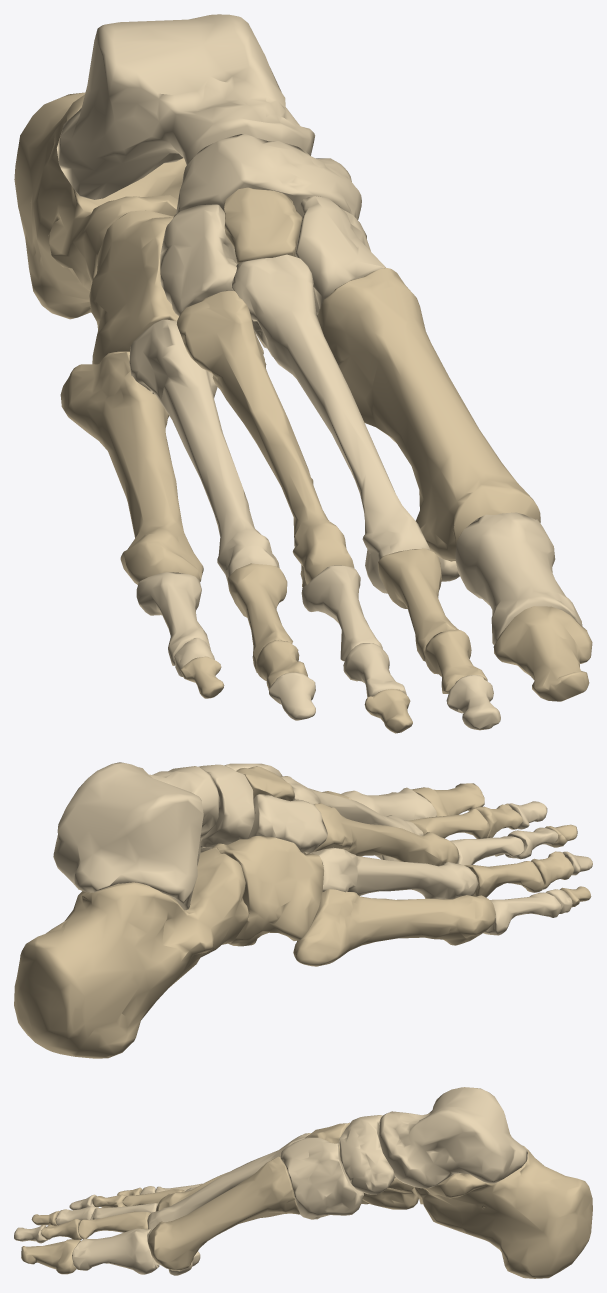
File: r-foot.glb
The picture shows the model from 3 angles, top to bottom: view 1: azimuth 30°, elevation 25°; view 2: azimuth 150°, elevation 25°; view 3: azimuth 270°, elevation 25°; orthographic projection. The views are drawn at different scales.
Visible parts, largest first — view 1: right-talus, right-first-metatarsal-bone, right-second-metatarsal-bone, right-calcaneus, right-fifth-metatarsal-bone, right-third-metatarsal-bone, right-fourth-metatarsal-bone, right-navicular, right-big-toe-proximal-phalanx, right-cuboid, right-big-toe-distal-phalanx, right-lateral-cuneiform (+13 smaller); view 2: right-calcaneus, right-talus, right-fifth-metatarsal-bone, right-cuboid, right-fourth-metatarsal-bone, right-third-metatarsal-bone, right-lateral-cuneiform, right-navicular, right-second-metatarsal-bone, right-big-toe-proximal-phalanx, right-fourth-toe-proximal-phalanx, right-little-toe-proximal-phalanx (+9 smaller); view 3: right-calcaneus, right-talus, right-first-metatarsal-bone, right-medial-cuneiform, right-navicular, right-big-toe-proximal-phalanx, right-second-metatarsal-bone, right-big-toe-distal-phalanx, right-second-toe-proximal-phalanx, right-cuboid, right-second-toe-middle-phalanx, right-third-toe-proximal-phalanx (+7 smaller).
Boxes of the visible parts, <box> form: right-talus: <box>57,14,315,199</box>; right-first-metatarsal-bone: <box>317,267,540,561</box>; right-second-metatarsal-bone: <box>231,254,429,593</box>; right-calcaneus: <box>14,92,186,319</box>; right-fifth-metatarsal-bone: <box>60,351,203,584</box>; right-third-metatarsal-bone: <box>176,290,354,587</box>; right-fourth-metatarsal-bone: <box>129,319,279,580</box>; right-navicular: <box>176,134,361,219</box>; right-big-toe-proximal-phalanx: <box>455,512,582,644</box>; right-cuboid: <box>89,210,178,364</box>; right-big-toe-distal-phalanx: <box>493,606,592,701</box>; right-lateral-cuneiform: <box>160,204,255,334</box>; right-calcaneus: <box>14,847,249,1058</box>; right-talus: <box>53,762,219,910</box>; right-fifth-metatarsal-bone: <box>293,889,495,966</box>; right-cuboid: <box>211,836,323,946</box>; right-fourth-metatarsal-bone: <box>309,847,478,899</box>; right-third-metatarsal-bone: <box>303,803,458,866</box>; right-lateral-cuneiform: <box>248,794,327,853</box>; right-navicular: <box>198,764,255,848</box>; right-second-metatarsal-bone: <box>280,776,423,861</box>; right-big-toe-proximal-phalanx: <box>341,787,436,856</box>; right-fourth-toe-proximal-phalanx: <box>464,861,544,897</box>; right-little-toe-proximal-phalanx: <box>483,892,560,935</box>; right-calcaneus: <box>414,1145,592,1278</box>; right-talus: <box>378,1087,528,1188</box>; right-first-metatarsal-bone: <box>148,1156,299,1270</box>; right-medial-cuneiform: <box>280,1137,363,1219</box>; right-navicular: <box>339,1115,395,1194</box>; right-big-toe-proximal-phalanx: <box>72,1228,159,1274</box>; right-second-metatarsal-bone: <box>147,1133,311,1229</box>; right-big-toe-distal-phalanx: <box>21,1239,80,1274</box>; right-second-toe-proximal-phalanx: <box>78,1211,150,1238</box>; right-cuboid: <box>362,1177,418,1209</box>; right-second-toe-middle-phalanx: <box>41,1219,81,1239</box>; right-third-toe-proximal-phalanx: <box>92,1203,158,1219</box>.
Size of the model in its own units: 0.2274 by 0.1849 by 0.5541.
